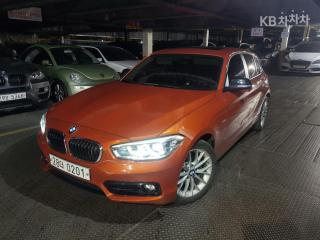0: (75, 165, 81, 176), (66, 163, 71, 173)
1: (80, 168, 87, 177)
2: (70, 165, 76, 175), (52, 156, 56, 165)
8: (55, 158, 60, 167)
더: (59, 160, 65, 169)
